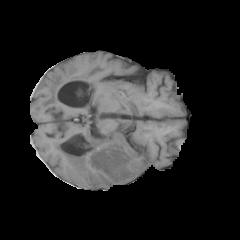glioma: (42, 86, 148, 186)
